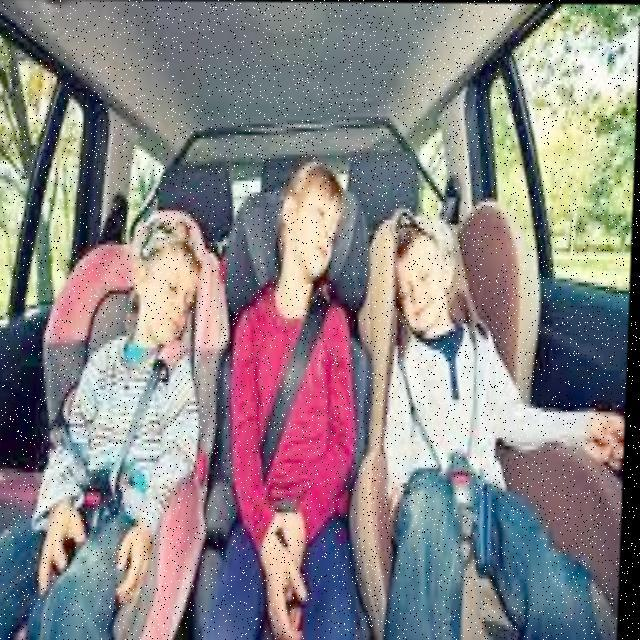seatbelt: (240, 259, 358, 578)
